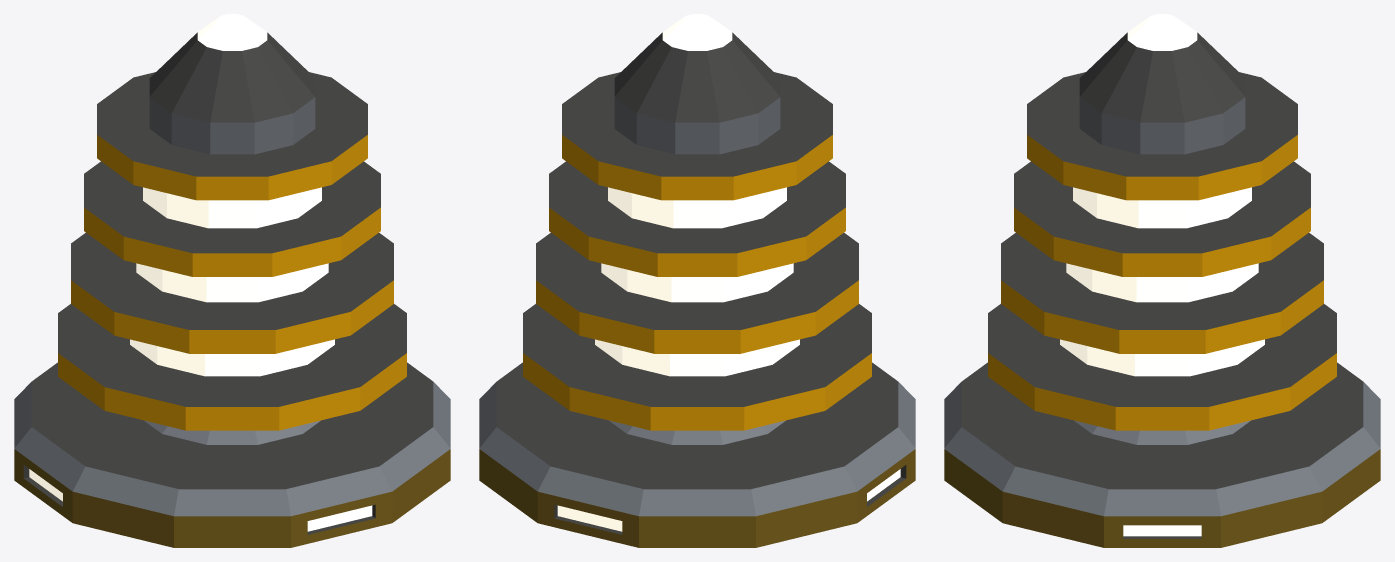
File: shield_generator.glb
3 renders of one model, left to right at view 1: azimuth 30°, elevation 25°; view 2: azimuth 150°, elevation 25°; view 3: azimuth 270°, elevation 25°, orthographic.
Visible parts, largest first — view 1: shield_generator; view 2: shield_generator; view 3: shield_generator.
Boxes of the visible parts, x1,y1,x2,y2 form: shield_generator: (14, 14, 450, 547); shield_generator: (479, 14, 915, 547); shield_generator: (944, 14, 1380, 547).
Size of the model in its own units: 2 by 2.2 by 2.
